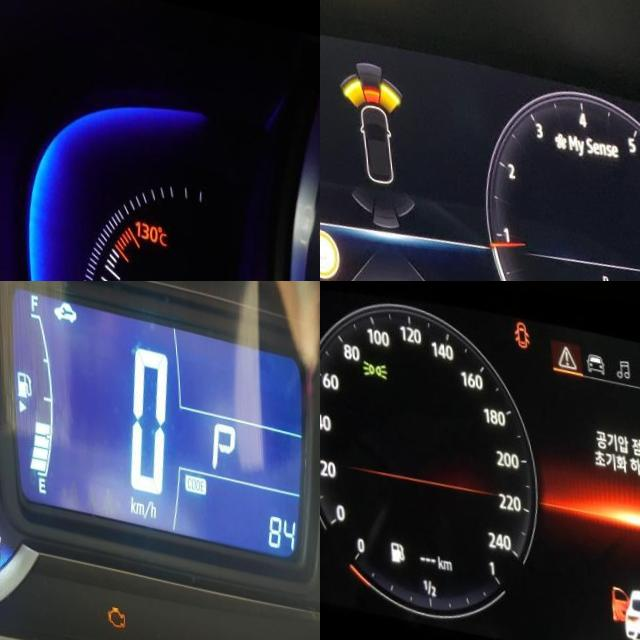Doors: (509, 306, 528, 338)
SideLamp: (357, 352, 385, 375)
